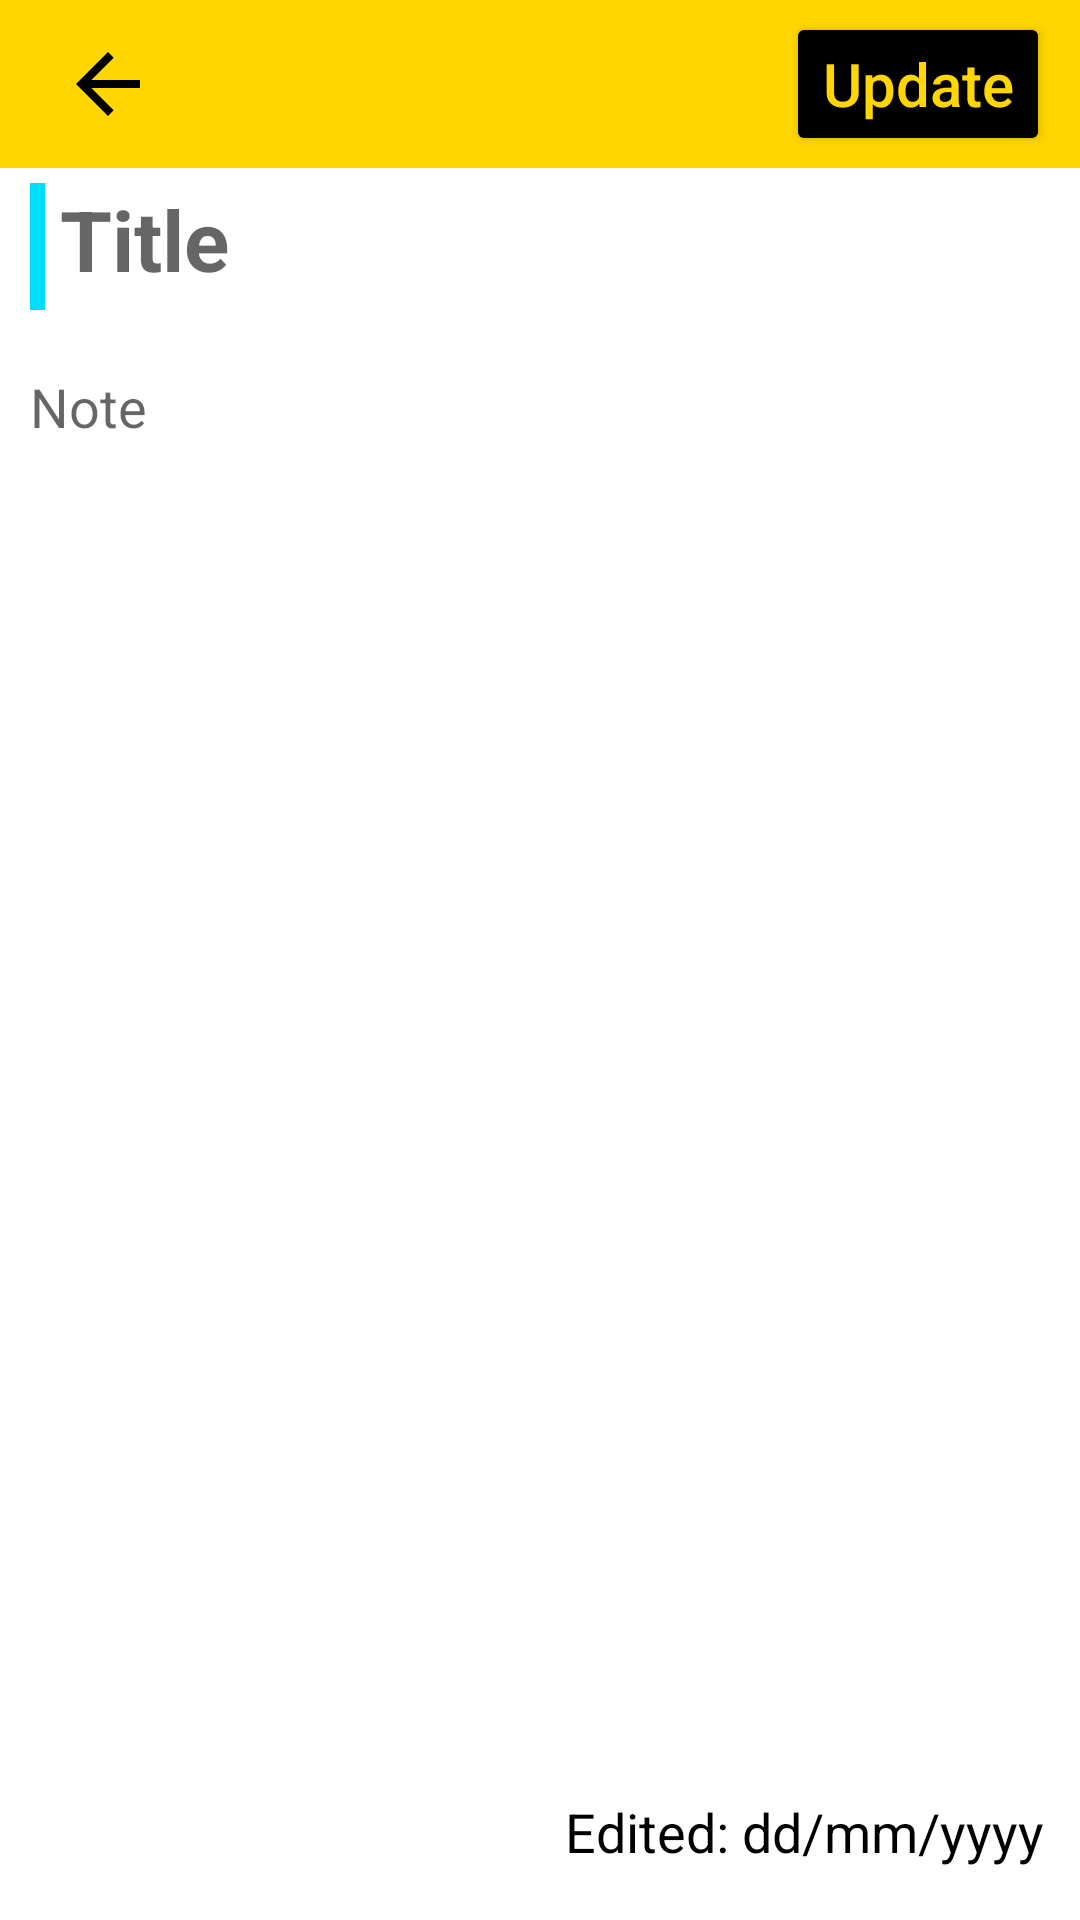

Named icons in this screenshot (1080x1920) and their bounding boxes, (x1, y1, x2, y2):
Back Press: (76, 52, 140, 116)
